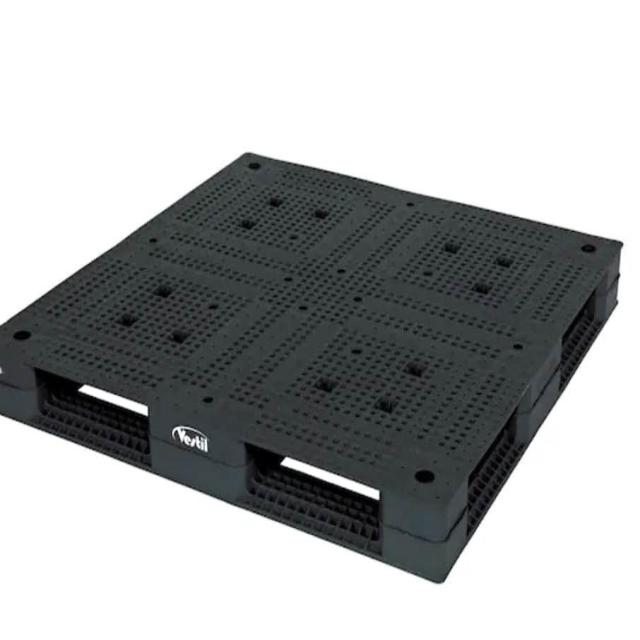non-igps: (0, 142, 628, 592)
